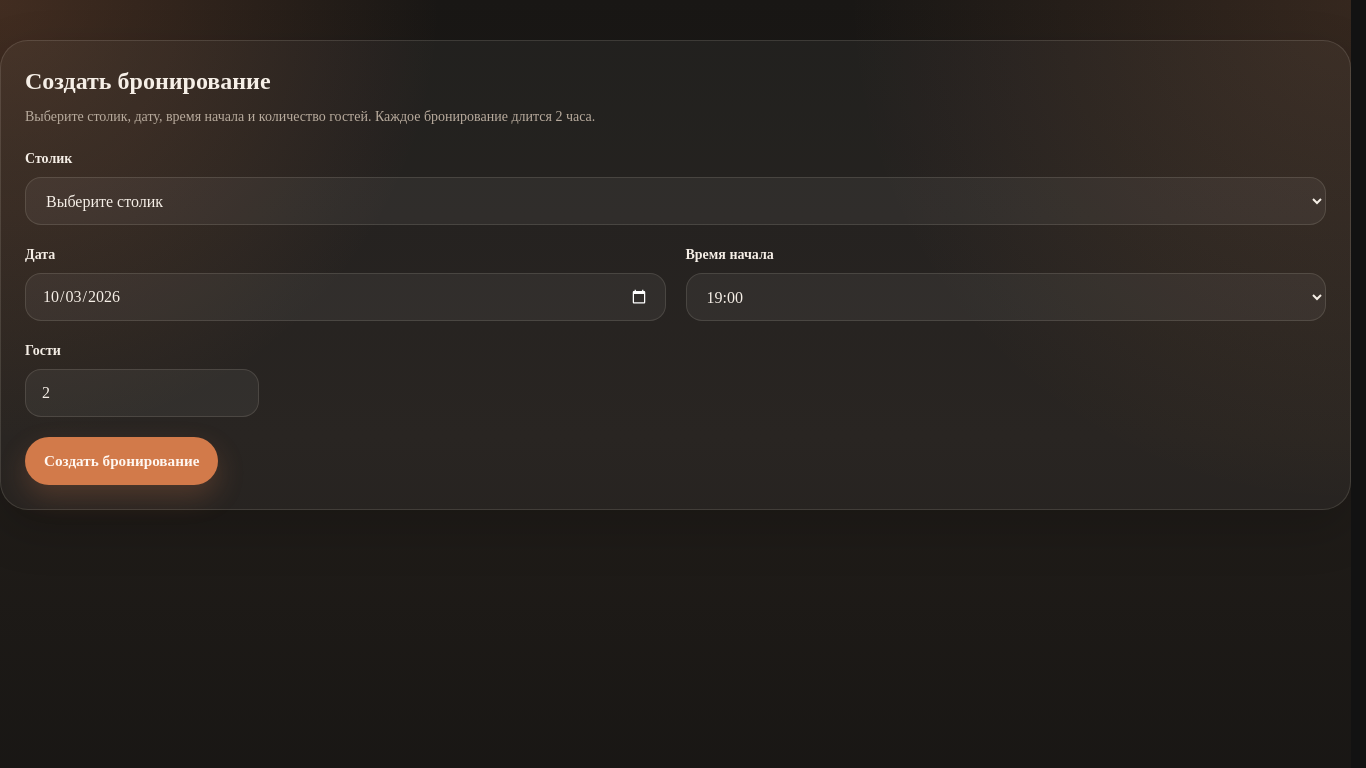
BookingForm › shows validation error when table is not selected
The image size is (1366, 768).
Click the button "Создать бронирование" at (122, 461), box [25,437,218,485]
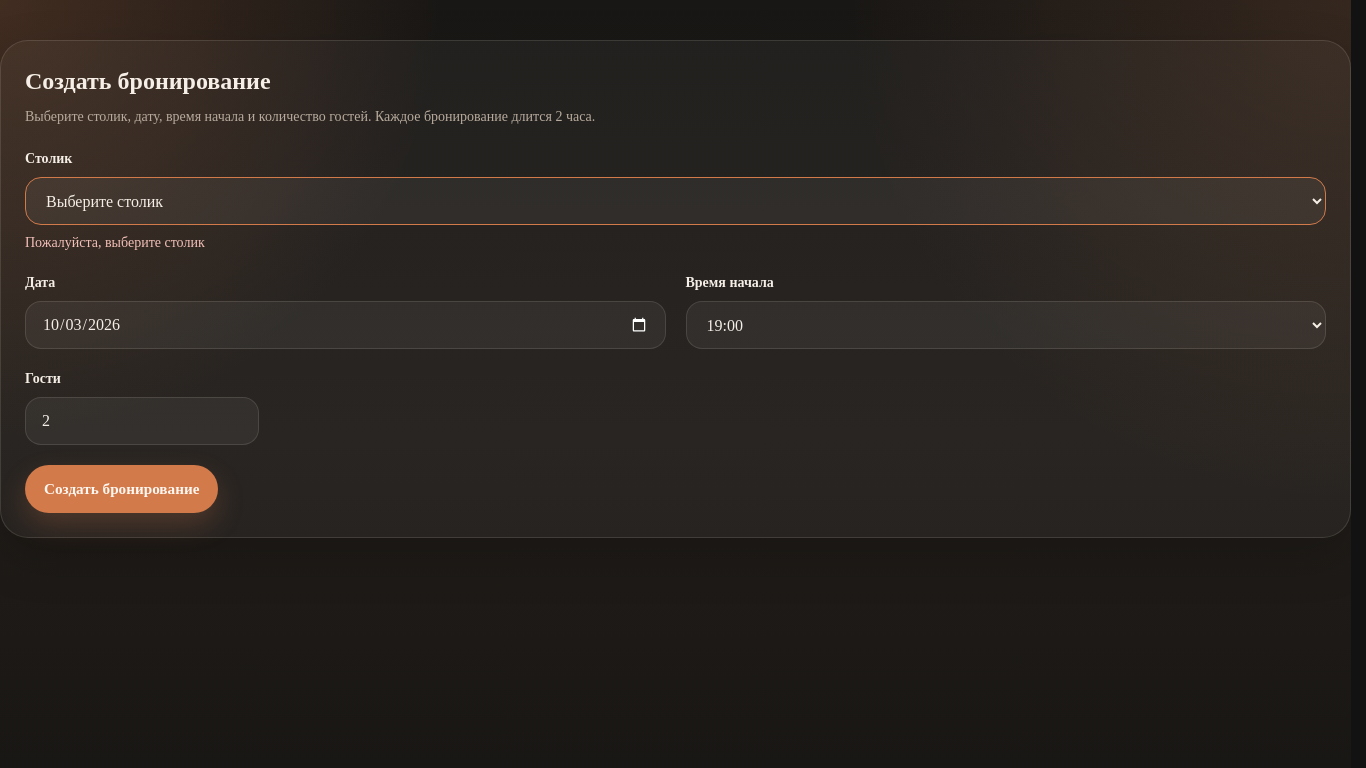
Now the text "Пожалуйста, выберите столик" is shown, box [25,235,205,250]
